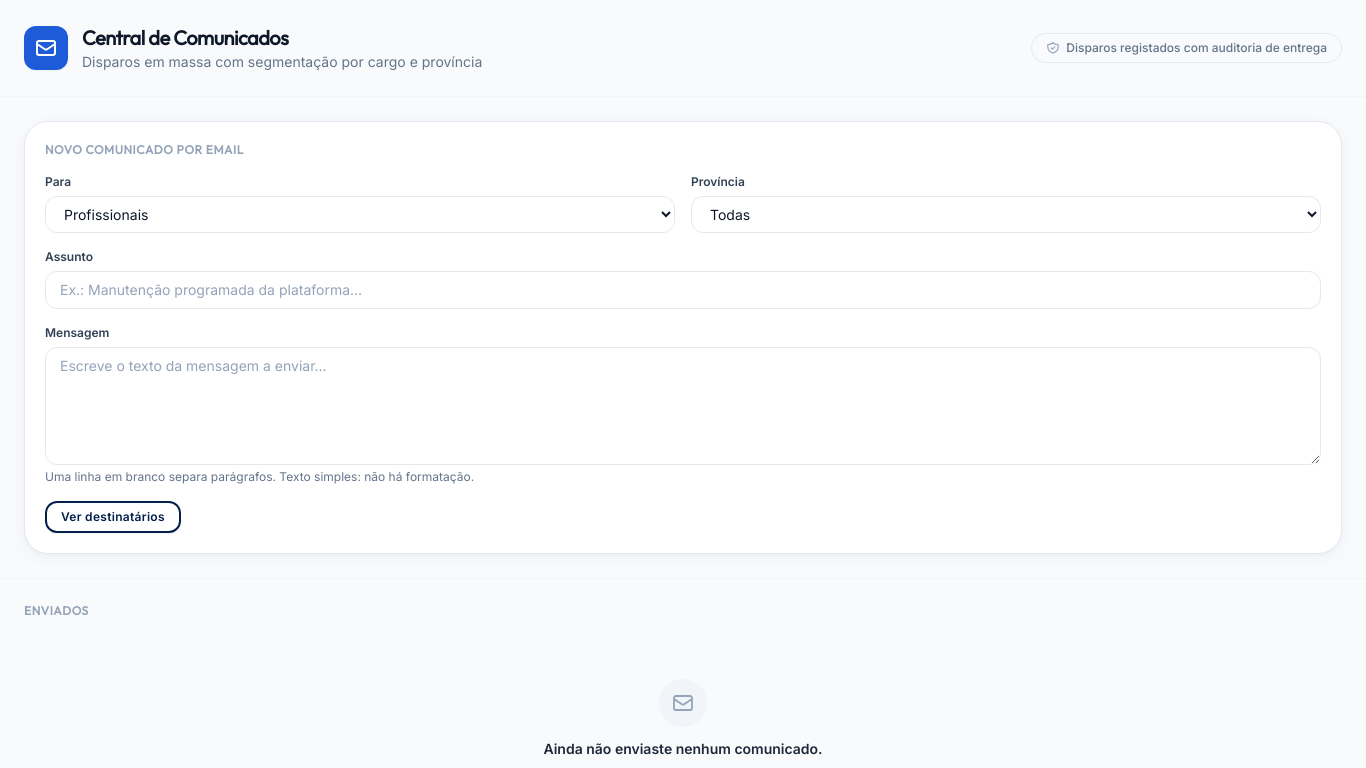
it: AdminBroadcasts — envio › um grupo vazio não se pode enviar
Type " Manutenção " into the field labelled "Assunto".
click(683, 290); type(" Manutenção ")  # box [45,271,1321,309]
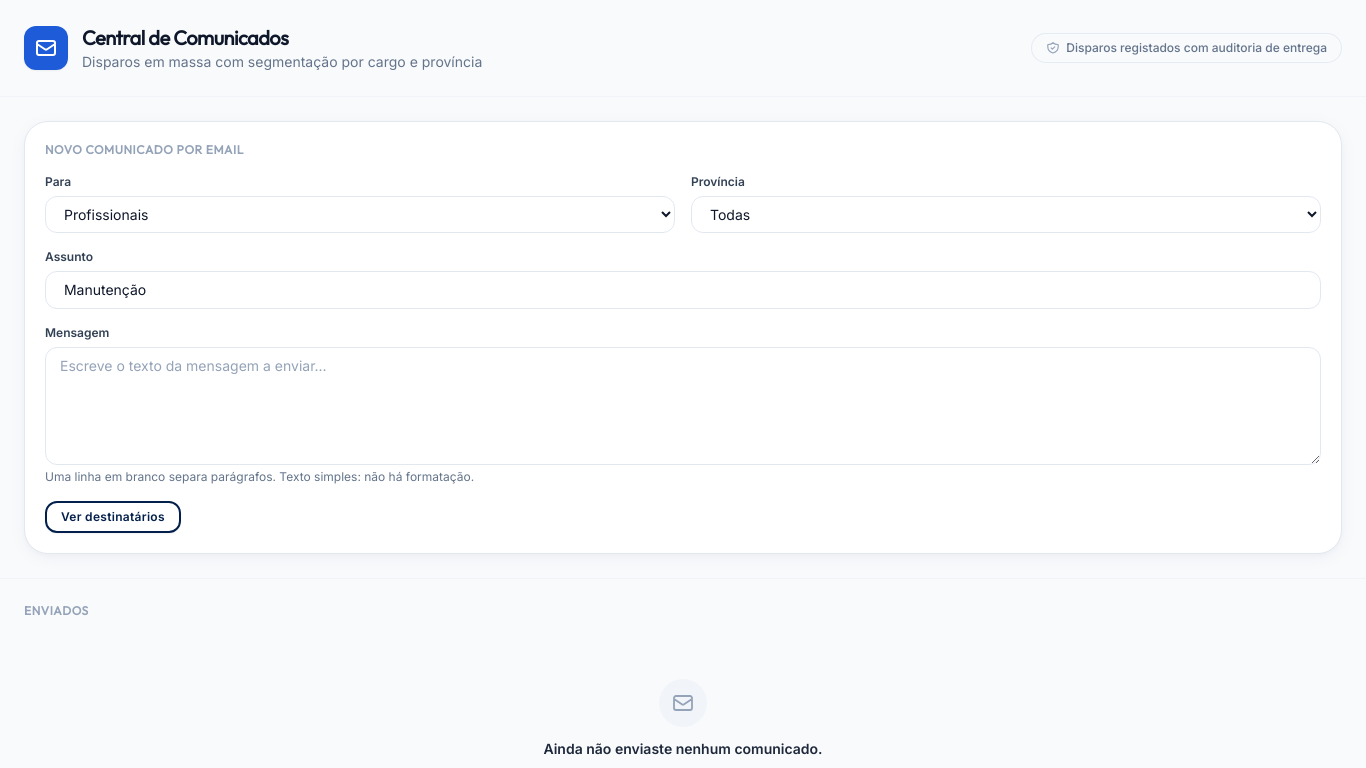
Type " A plataforma fica parada duas horas. " into the text box labelled "Mensagem".
click(683, 406); type(" A plataforma fica parada duas horas. ")  # box [45,347,1321,465]
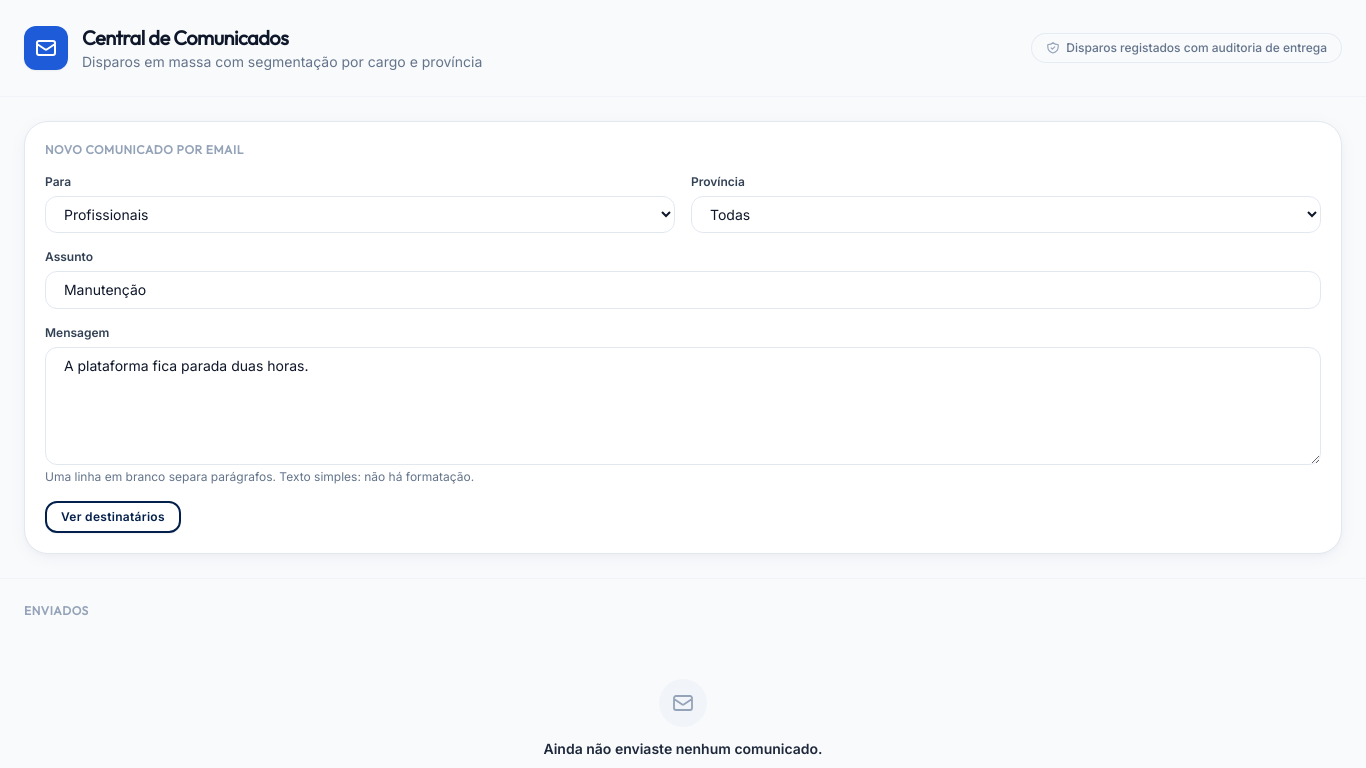
Click the button "Ver destinatários".
click(113, 517)  # box [45,501,181,533]
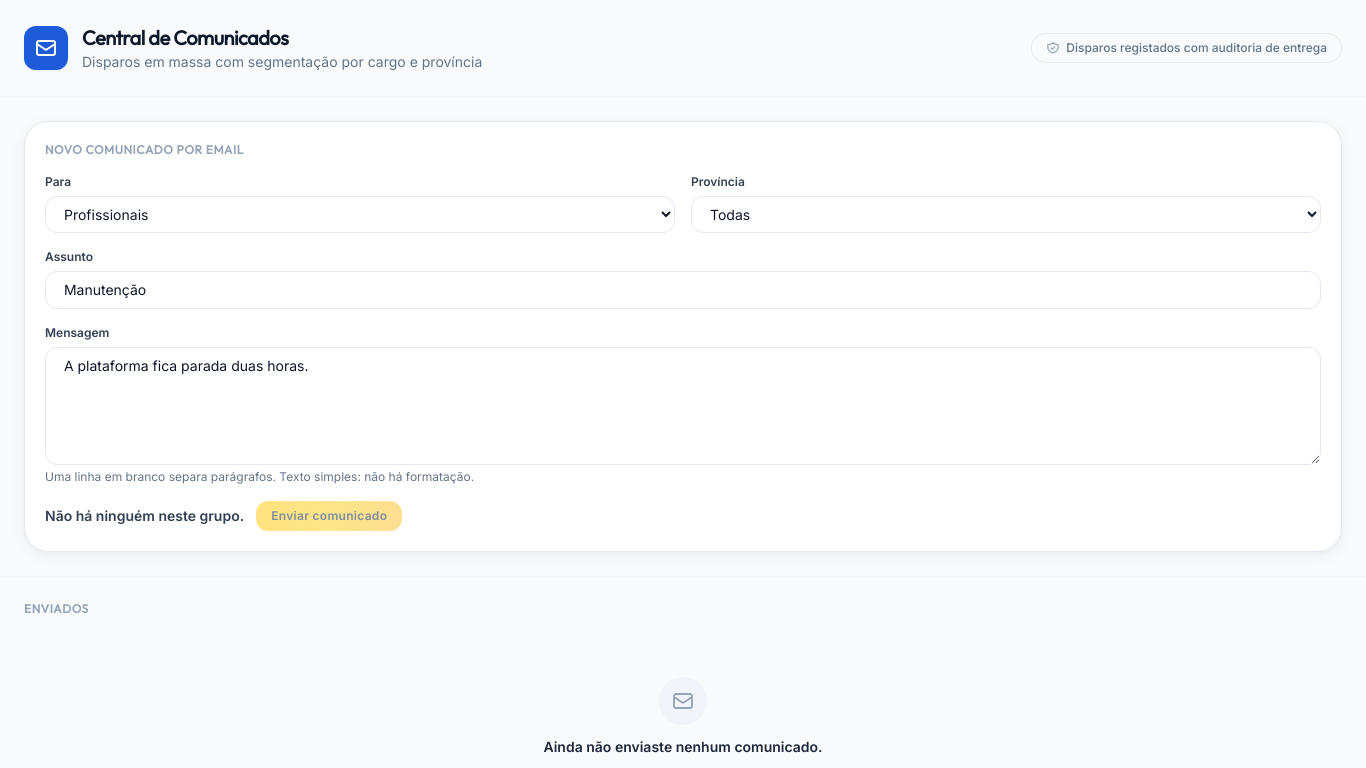
Expected: the text "Não há ninguém neste grupo." is shown, [45,506,244,526]
Expected: the button "Enviar comunicado" is disabled, [256,501,402,531]
